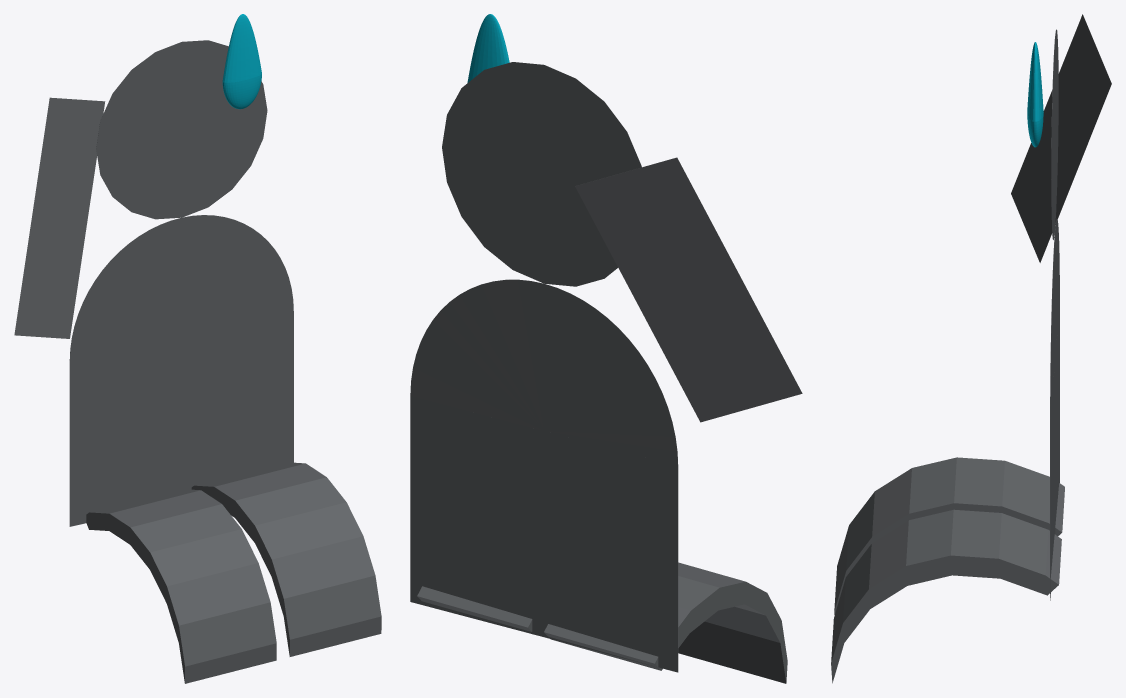
File: cientificoSentado5.glb
3 renders of one model, left to right at view 1: azimuth 30°, elevation 25°; view 2: azimuth 150°, elevation 25°; view 3: azimuth 270°, elevation 25°, orthographic. The views are drawn at different scales.
Parts seen in each view (by area): view 1: Mesh_Mesh_head_geo.001_lambert2SG.001; view 2: Mesh_Mesh_head_geo.001_lambert2SG.001; view 3: Mesh_Mesh_head_geo.001_lambert2SG.001.
Boxes of the visible parts, x1,y1,x2,y2 form: Mesh_Mesh_head_geo.001_lambert2SG.001: (14, 14, 381, 683); Mesh_Mesh_head_geo.001_lambert2SG.001: (410, 14, 802, 683); Mesh_Mesh_head_geo.001_lambert2SG.001: (831, 14, 1111, 683).
Size of the model in its own units: 23 by 42 by 17.18.
